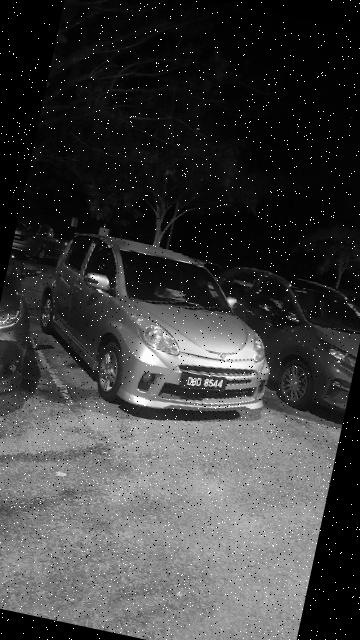License_Plate: (178, 367, 230, 398)
car: (29, 223, 294, 438), (196, 259, 360, 423)
